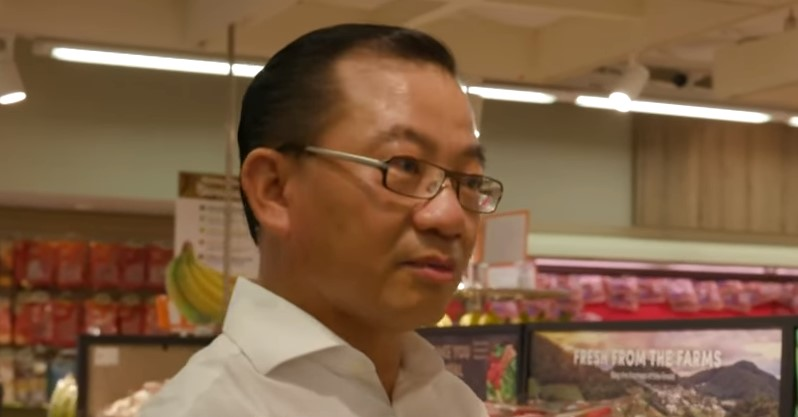face_no_mask: (241, 29, 486, 340)
